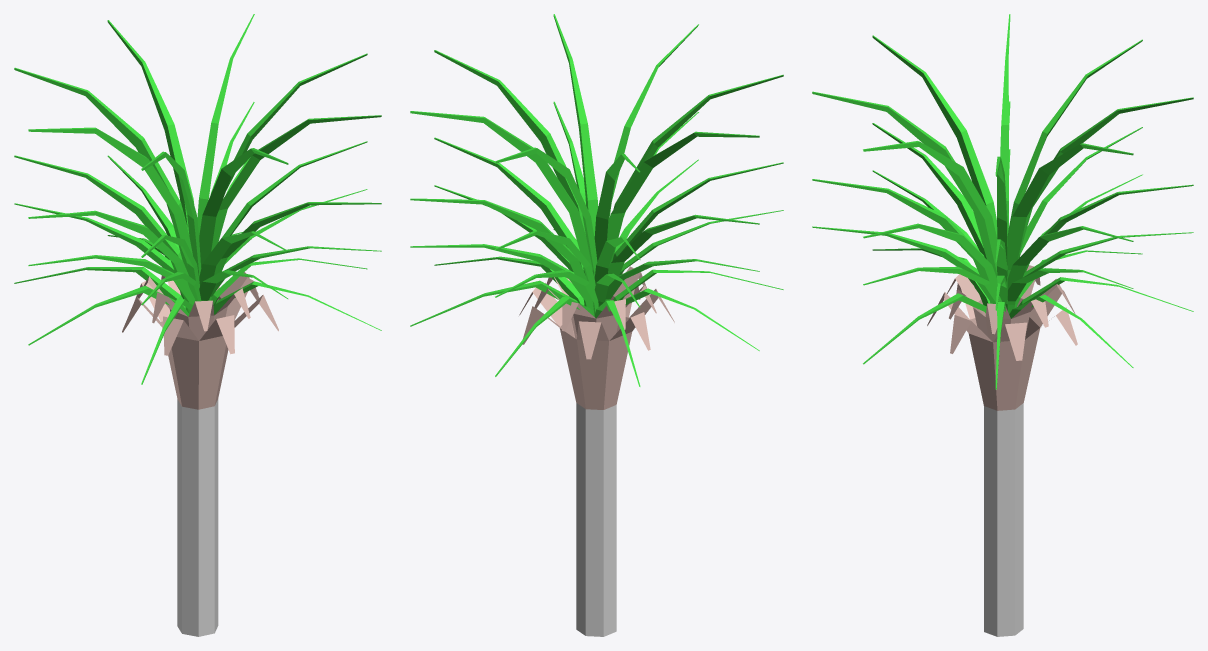
Rendered from IG_Tree 5.fbx.
3 renders of one model, left to right at view 1: azimuth 30°, elevation 25°; view 2: azimuth 150°, elevation 25°; view 3: azimuth 270°, elevation 25°, orthographic.
Visible parts, largest first — view 1: IG_Tree 5; view 2: IG_Tree 5; view 3: IG_Tree 5.
Boxes of the visible parts, x1=… form: IG_Tree 5: x1=14, y1=14, x2=381, y2=636; IG_Tree 5: x1=410, y1=14, x2=783, y2=636; IG_Tree 5: x1=812, y1=14, x2=1193, y2=636.
Size of the model in its own units: 842 by 1299 by 842.
